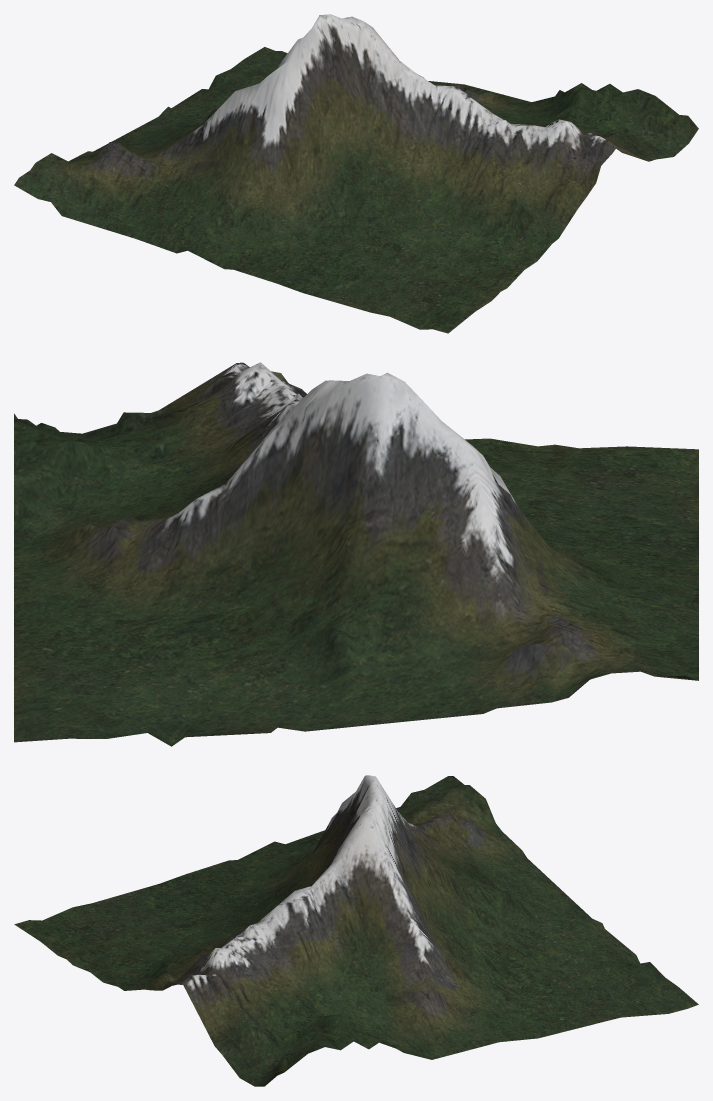
Rendered from xueshan_yunmeng_01.FBX.
The picture shows the model from 3 angles, top to bottom: view 1: azimuth 30°, elevation 25°; view 2: azimuth 150°, elevation 25°; view 3: azimuth 270°, elevation 25°; orthographic projection. The views are drawn at different scales.
Visible parts, largest first — view 1: Mesh_0062; view 2: Mesh_0062; view 3: Mesh_0062.
Boxes of the visible parts, x1,y1,x2,y2 form: Mesh_0062: [14, 14, 698, 333]; Mesh_0062: [14, 362, 698, 746]; Mesh_0062: [14, 775, 698, 1086].
Bounding box in the file's own units: 693945 × 200727 × 693945.
